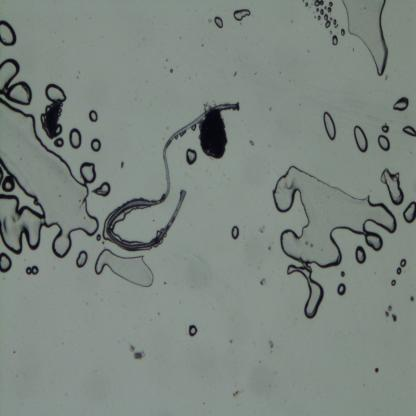Air bubble: (0, 97, 99, 259), (272, 165, 398, 270), (340, 1, 390, 74), (96, 248, 154, 289), (287, 264, 327, 320), (378, 165, 406, 206), (0, 57, 21, 96), (6, 79, 34, 106), (322, 110, 337, 141), (0, 19, 17, 46), (354, 125, 369, 155), (44, 83, 68, 101), (79, 160, 97, 184), (92, 180, 112, 198), (184, 146, 200, 166), (403, 201, 416, 225), (69, 128, 83, 150), (113, 209, 130, 227), (392, 96, 411, 112), (74, 249, 89, 269), (0, 251, 13, 272), (1, 175, 16, 193), (233, 8, 251, 22), (355, 245, 367, 266), (378, 134, 391, 152), (87, 108, 101, 123), (24, 264, 40, 277), (102, 215, 109, 242), (90, 138, 102, 152), (402, 125, 416, 137), (53, 135, 65, 148), (379, 122, 391, 135), (213, 16, 224, 30), (188, 324, 198, 337), (231, 226, 240, 240), (337, 284, 346, 296), (323, 14, 330, 26), (399, 258, 407, 268), (314, 0, 324, 7), (332, 35, 338, 46), (340, 27, 346, 37), (191, 124, 197, 132), (340, 270, 346, 278), (396, 267, 402, 275), (96, 234, 101, 242), (328, 1, 334, 7), (391, 280, 396, 287), (320, 8, 324, 15)
Background material: (40, 101, 64, 139), (127, 342, 146, 360), (383, 304, 397, 324), (268, 339, 274, 354), (258, 224, 266, 234), (260, 275, 266, 287), (374, 366, 380, 374), (409, 296, 415, 302)
Microfibre: (104, 102, 240, 251)
